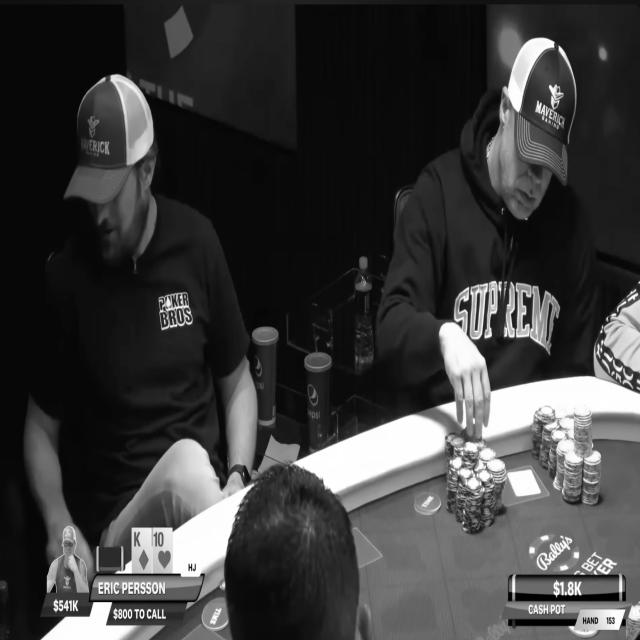10H: (151, 528, 173, 574)
KD: (131, 527, 152, 574)
